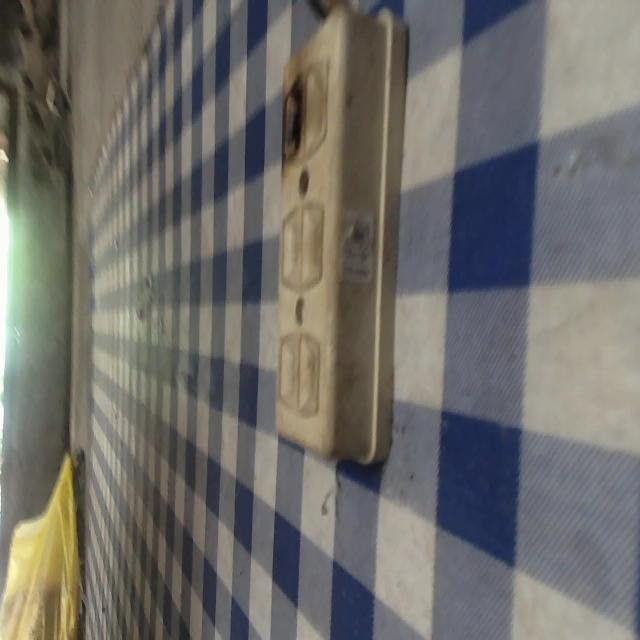-: (279, 67, 306, 165)
